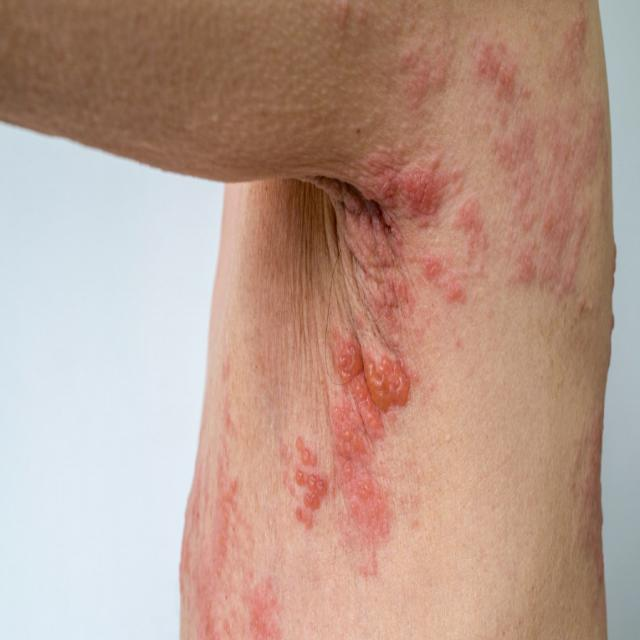herpes zoster: (274, 7, 607, 599), (180, 332, 290, 636)
